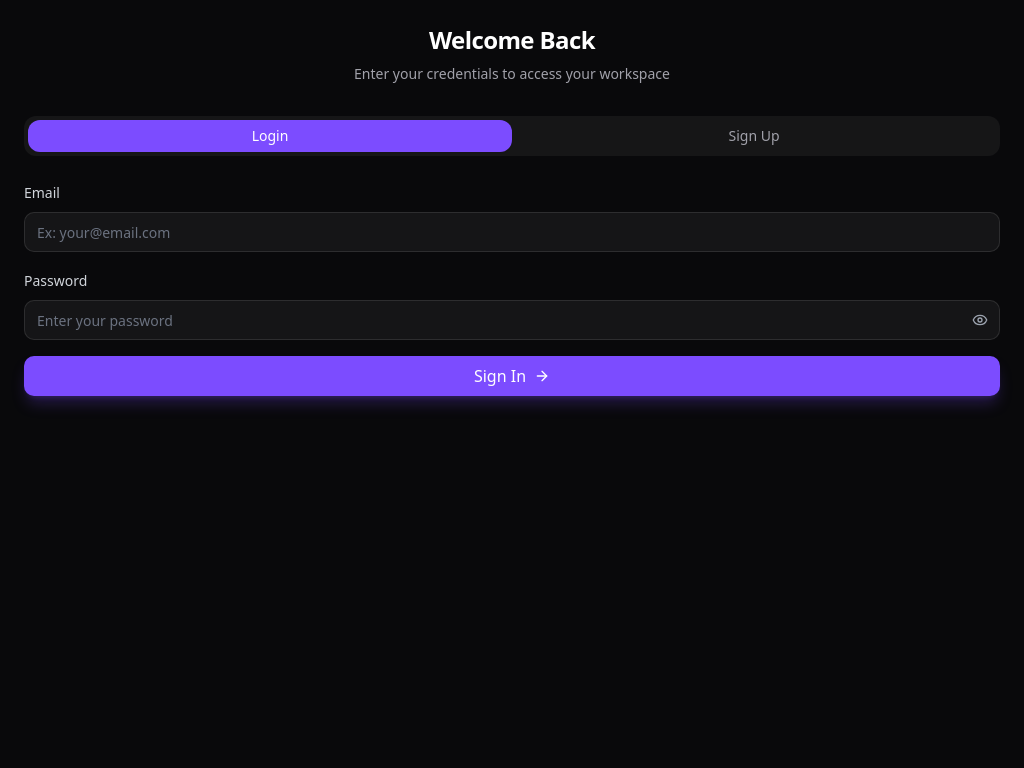
Test: LoginForm › Form validation › password mismatch shows error message
Click the tab "Sign Up" at (754, 136), box 512,120 -> 996,152
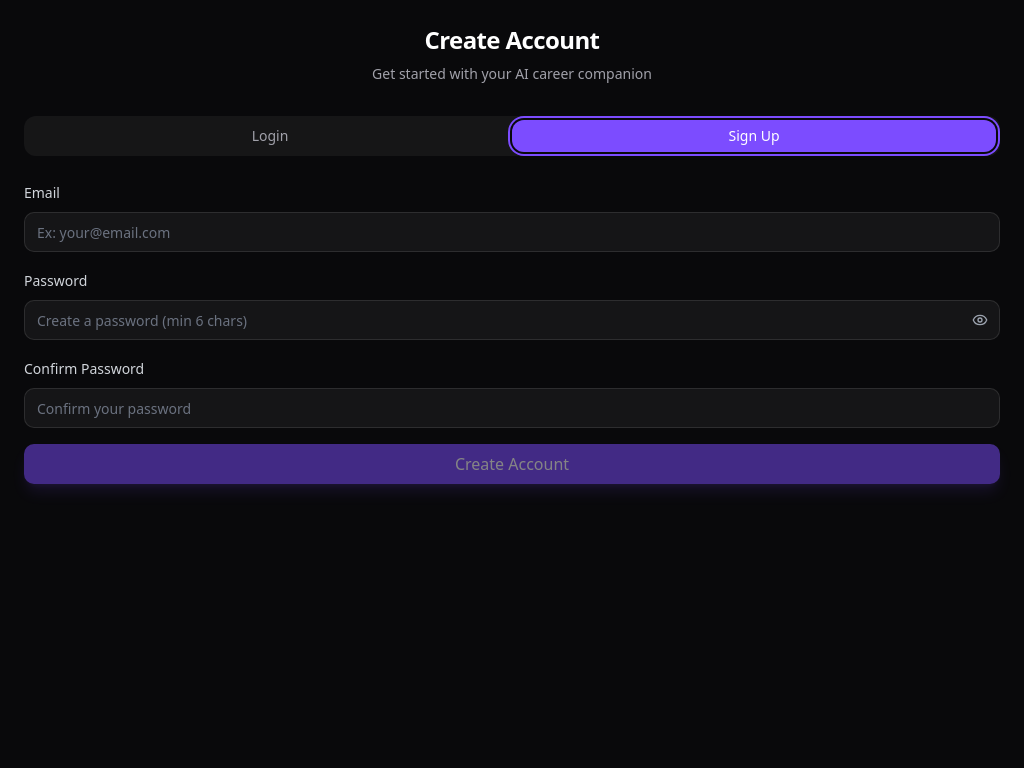
Type "test@example.com" into the field labelled "Email" at (512, 232), box 24,212 -> 1000,252
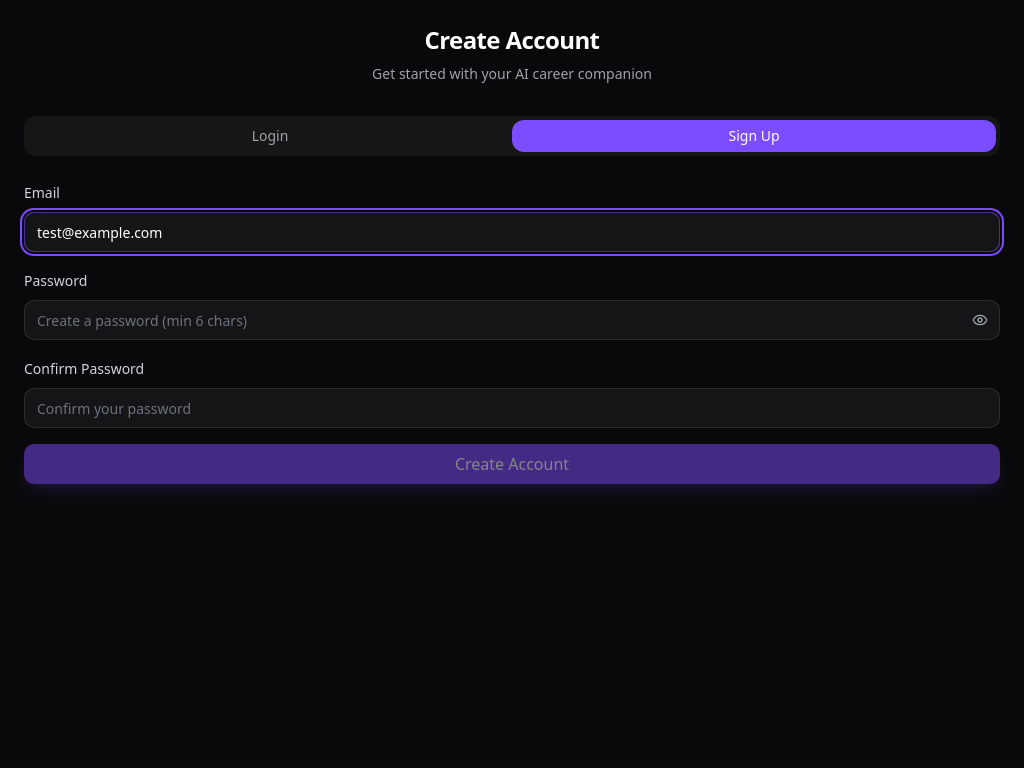
Type "password123" into the password field labelled "Password" at (512, 320), box 24,300 -> 1000,340
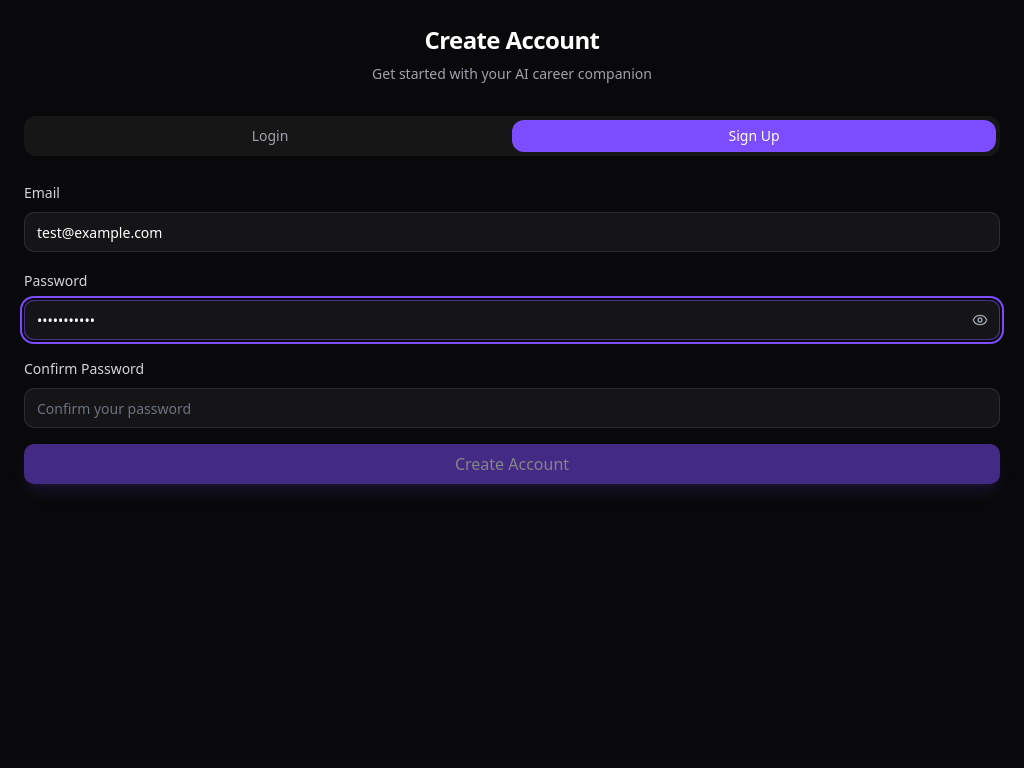
Type "differentpassword" into the password field labelled "Confirm Password" at (512, 408), box 24,388 -> 1000,428
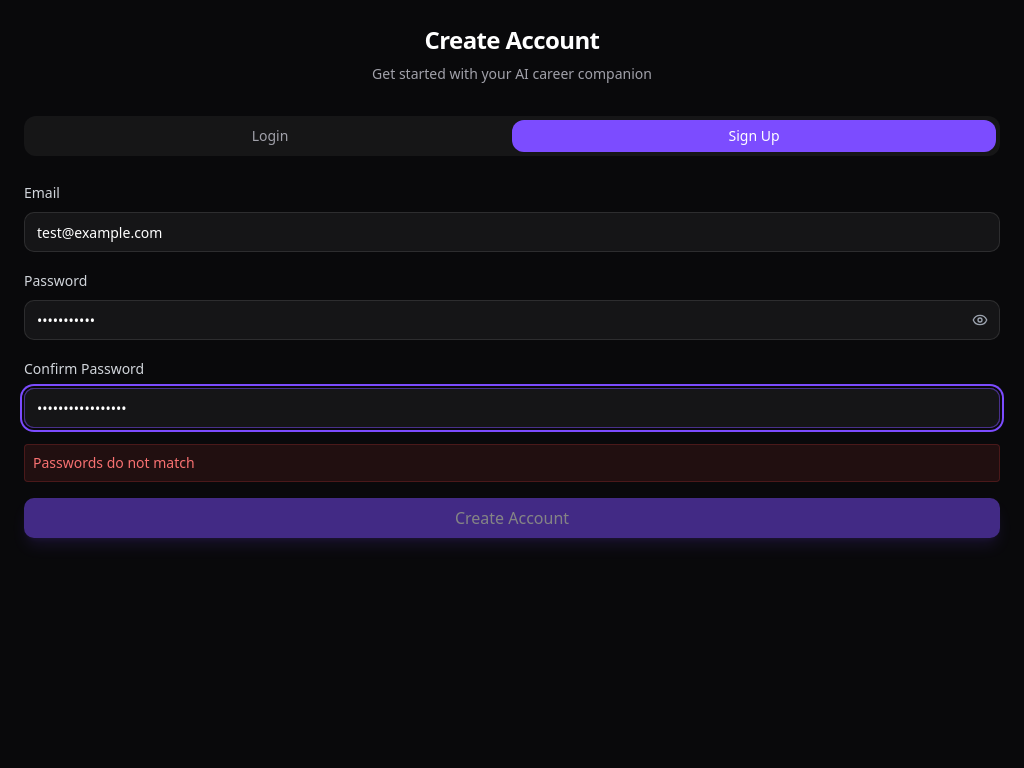
expect the text "Passwords do not match" is shown: met, box 24,444 -> 1000,482
